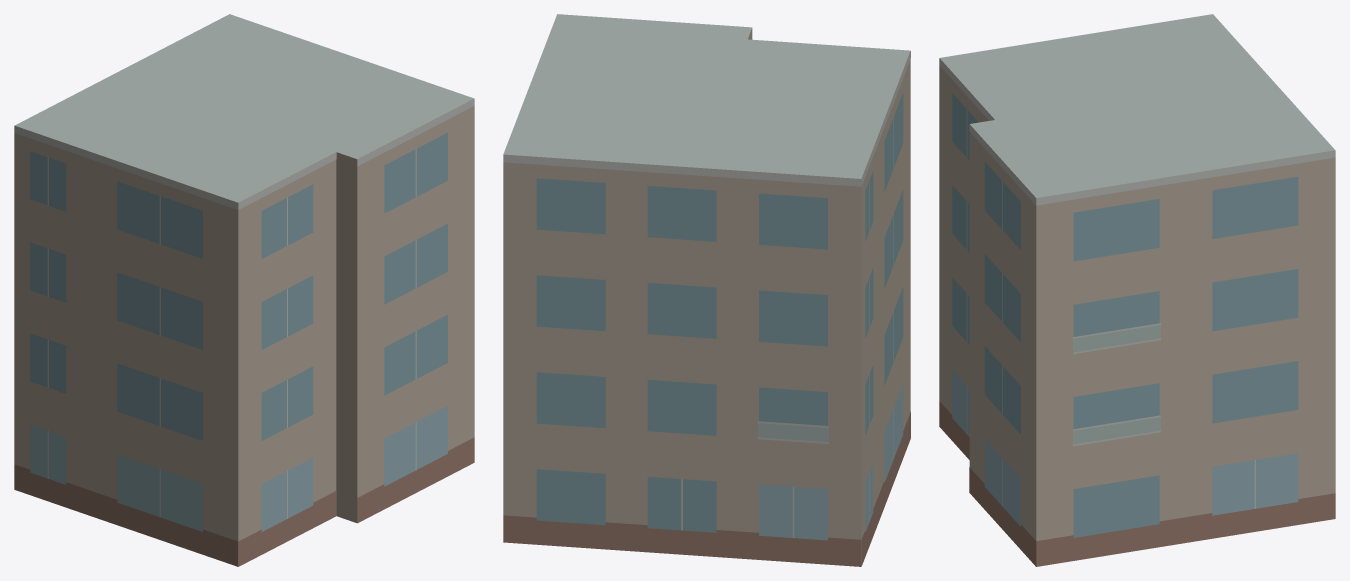
Rendered from residential-1a04f805-1a61-475c-a7dc-9cea44d217cd.glb.
3 renders of one model, left to right at view 1: azimuth 30°, elevation 25°; view 2: azimuth 150°, elevation 25°; view 3: azimuth 270°, elevation 25°, orthographic. The views are drawn at different scales.
Visible parts, largest first — view 1: residential-1a04f805-1a61-475c-a7dc-9cea44d217cd.tmp; view 2: residential-1a04f805-1a61-475c-a7dc-9cea44d217cd.tmp; view 3: residential-1a04f805-1a61-475c-a7dc-9cea44d217cd.tmp.
Part boxes in pixels (bbox=[...]): residential-1a04f805-1a61-475c-a7dc-9cea44d217cd.tmp: bbox=[14, 14, 474, 566]; residential-1a04f805-1a61-475c-a7dc-9cea44d217cd.tmp: bbox=[503, 14, 910, 566]; residential-1a04f805-1a61-475c-a7dc-9cea44d217cd.tmp: bbox=[939, 14, 1335, 566].
Bounding box in the file's own units: 13.08 × 12.2 × 11.89.
